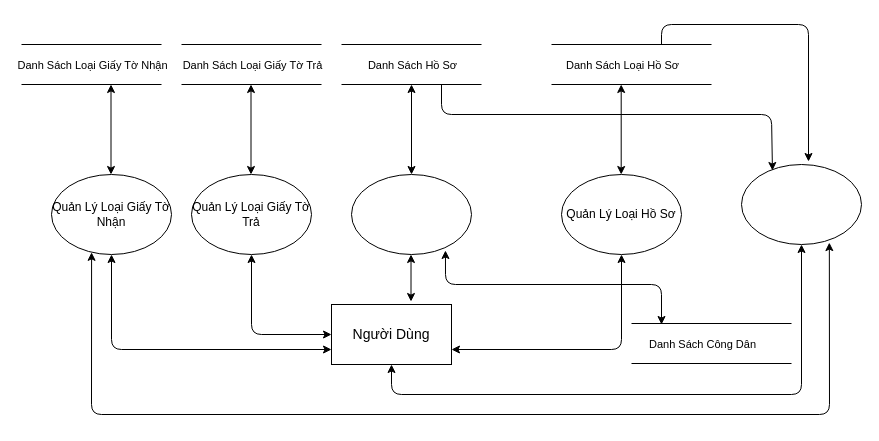
The diagram is 879 pixels wide and 441 high, and some of its shapes have lost their labels. The shapes that lost their labels are listed below. From the top down, each one's centre as x and y in pixels, then its label:
At [411,214]: "Quản Lý Hồ Sơ".
At [801,204]: "Báo Cáo".
